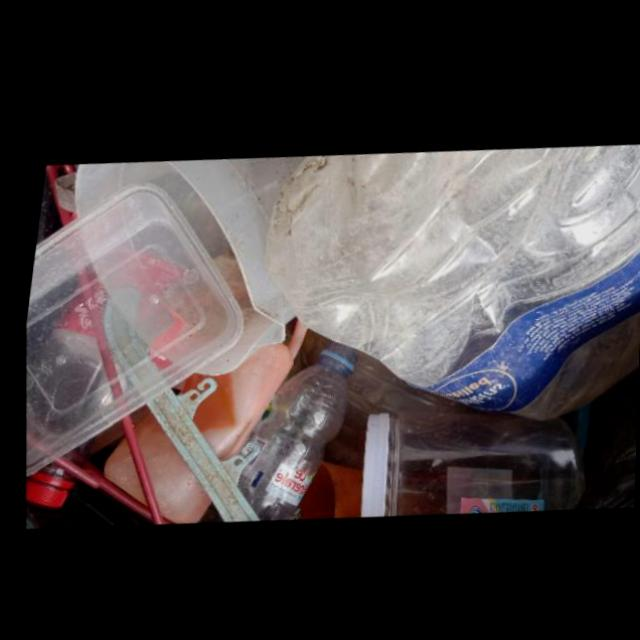chai_nhua_pet: (257, 138, 640, 414), (233, 343, 351, 519)
chai_thuy_tinh: (357, 406, 581, 514)
hop_nhua: (20, 178, 236, 475), (65, 154, 294, 374), (100, 319, 300, 524)
